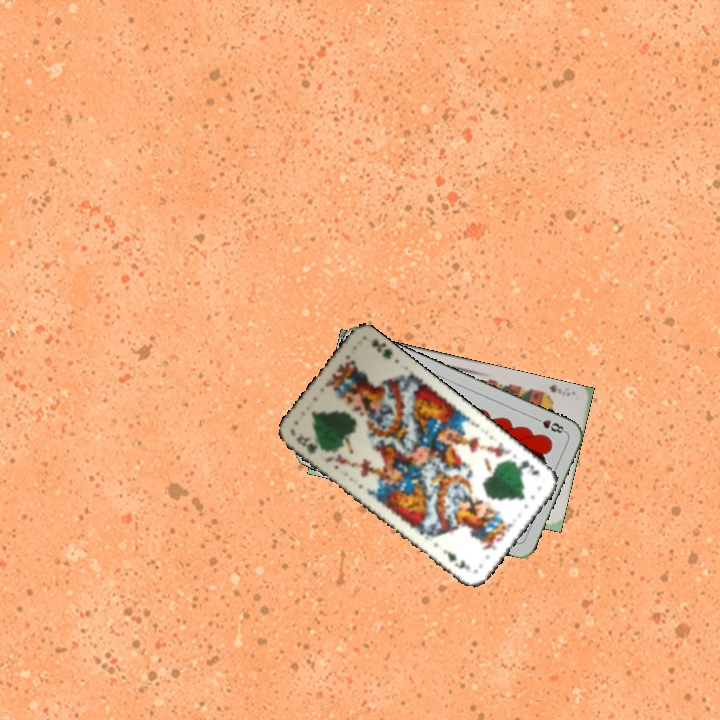GK: (292, 431, 321, 457), (508, 456, 542, 478)
H8: (530, 413, 568, 436)
S9: (545, 381, 572, 399)
